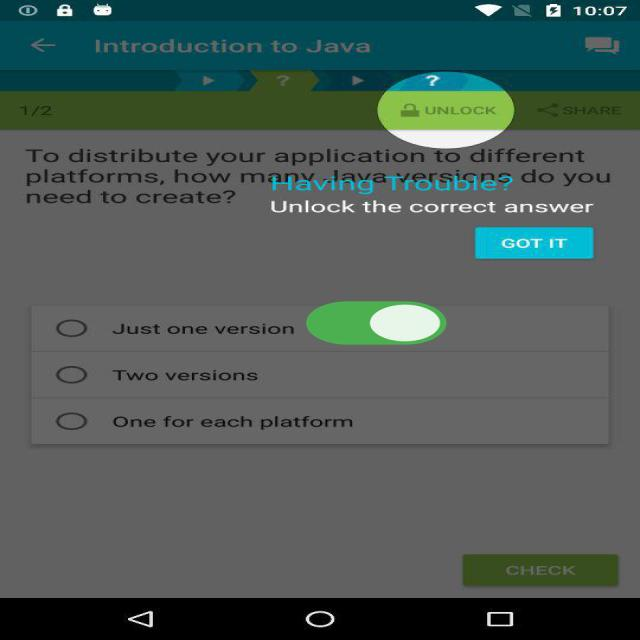social proof: (300, 284, 453, 364)
